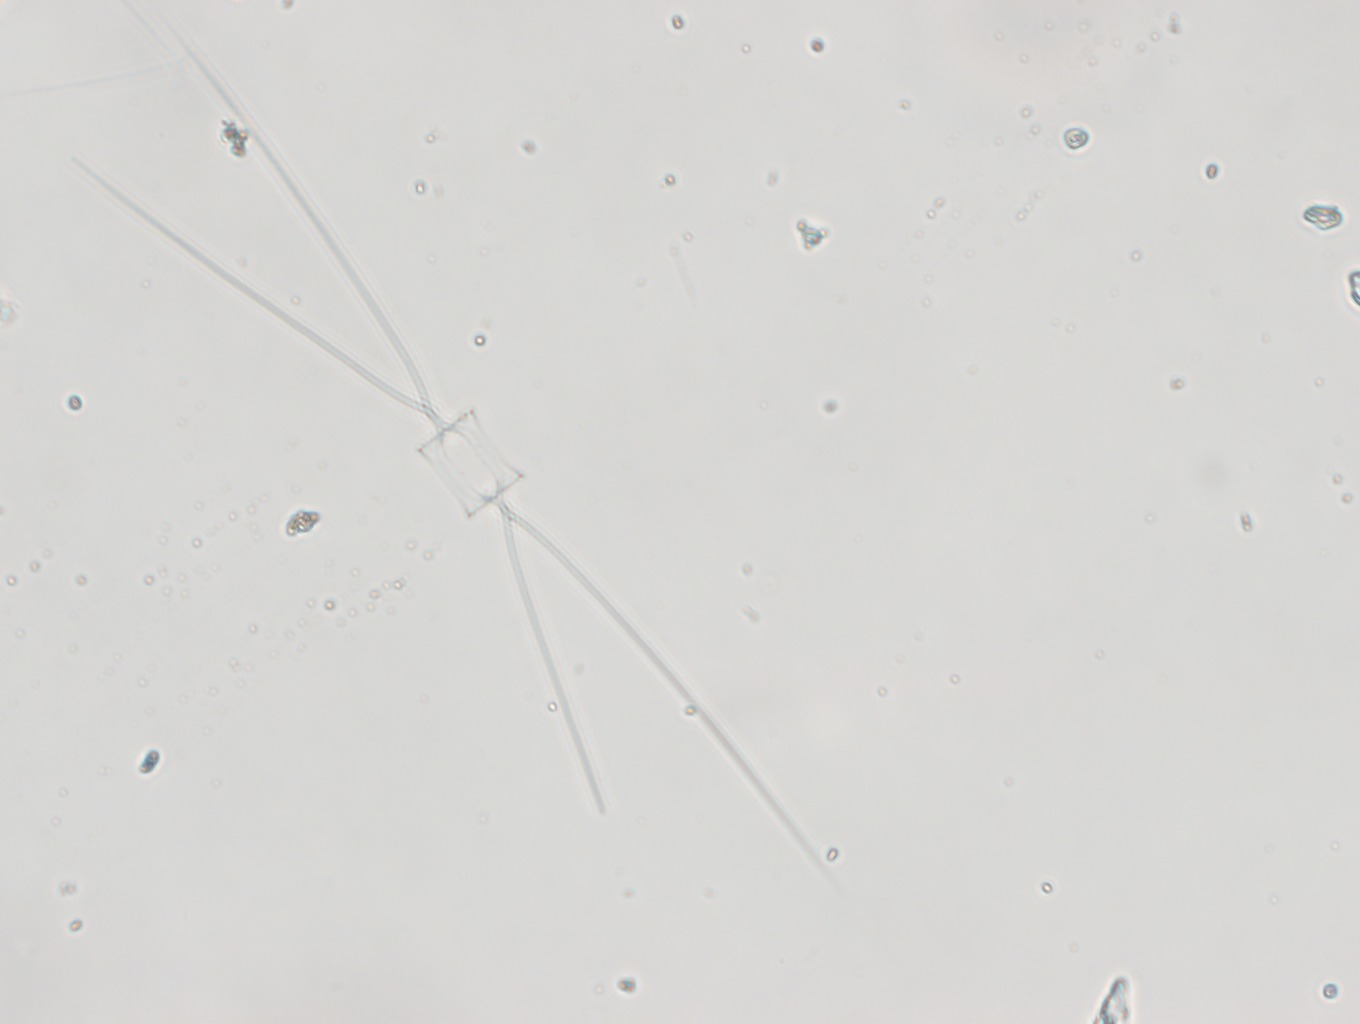chaetoceros: (62, 24, 845, 904)
